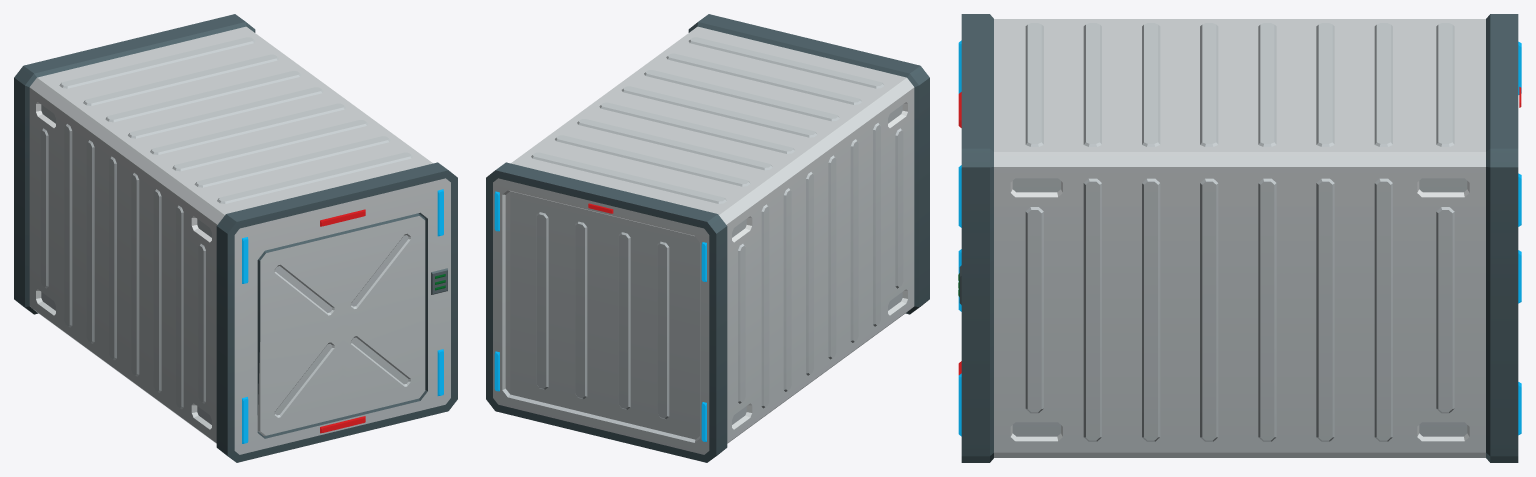
Rendered from Container_type_B_001.glb.
3 renders of one model, left to right at view 1: azimuth 30°, elevation 25°; view 2: azimuth 150°, elevation 25°; view 3: azimuth 270°, elevation 25°, orthographic. The views are drawn at different scales.
Visible parts, largest first — view 1: Container_type_B_001, Container_type_B_door_010; view 2: Container_type_B_001; view 3: Container_type_B_001.
Boxes of the visible parts, box(x1,y1,x2,y2) form: Container_type_B_001: box(14, 14, 457, 462); Container_type_B_door_010: box(257, 213, 425, 435); Container_type_B_001: box(486, 14, 929, 462); Container_type_B_001: box(958, 14, 1521, 462).
Bounding box in the file's own units: 2.46 × 2.46 × 4.
Materials: 2 (2 with a texture image).
